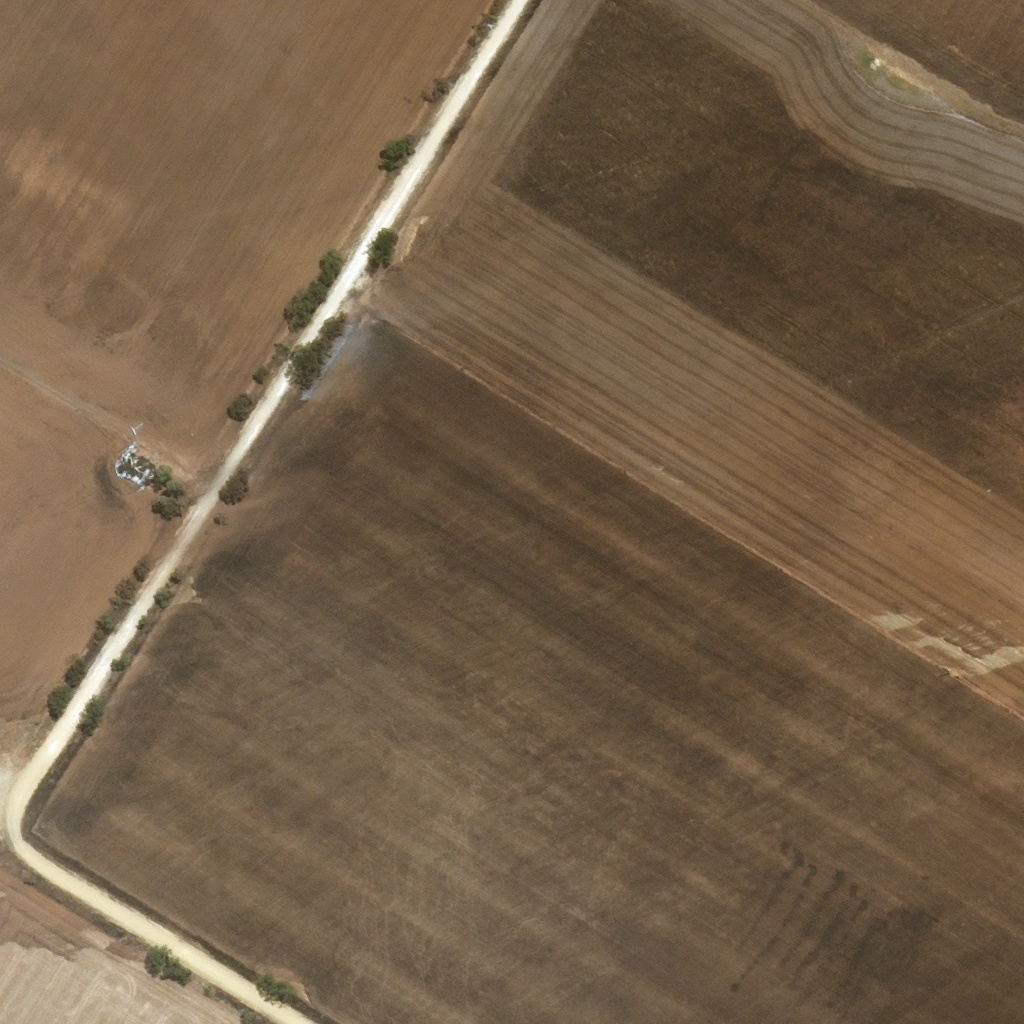3 destroyed: (113, 448, 151, 482)
